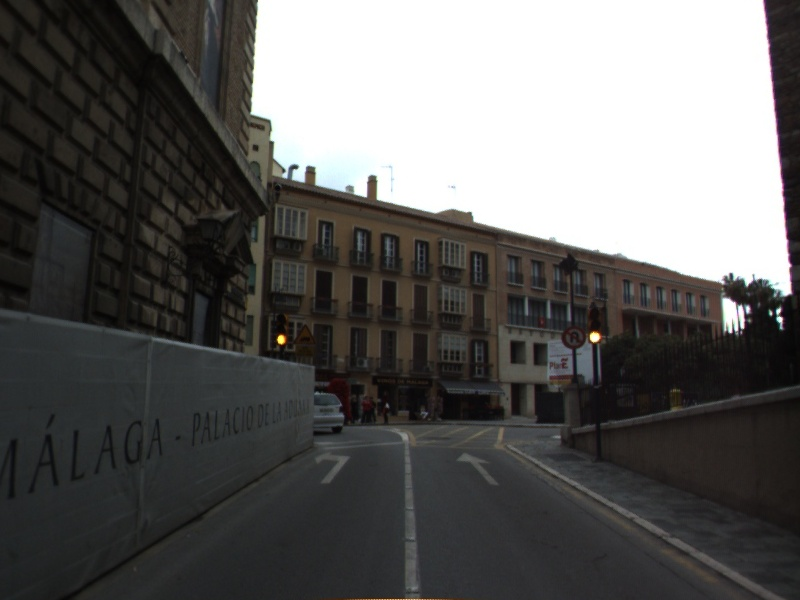LEFT: (313, 449, 352, 485)
STRAIGHT: (455, 450, 501, 487)
